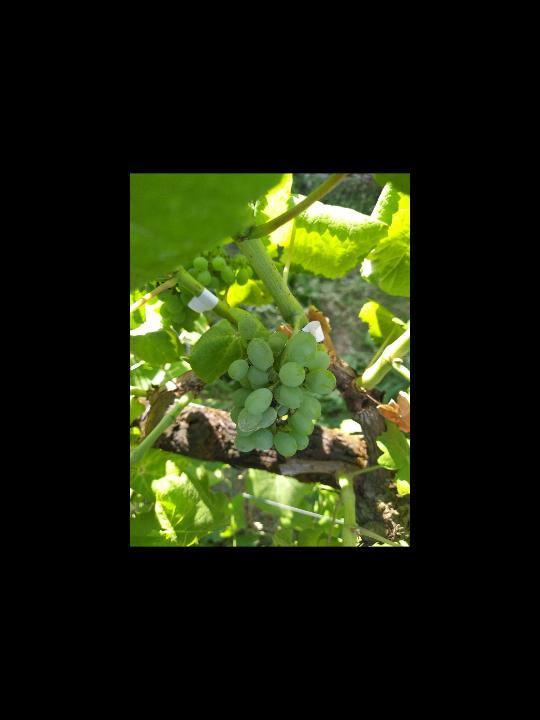grape: (224, 312, 340, 458)
